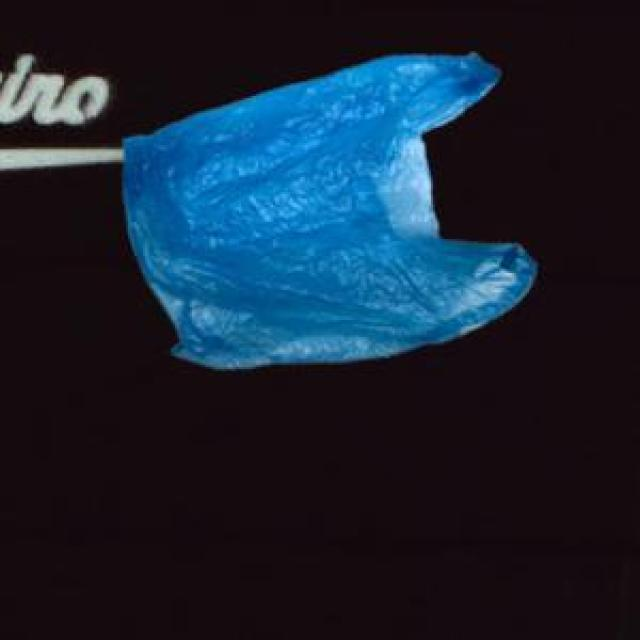Vinyl: (124, 54, 538, 369)
